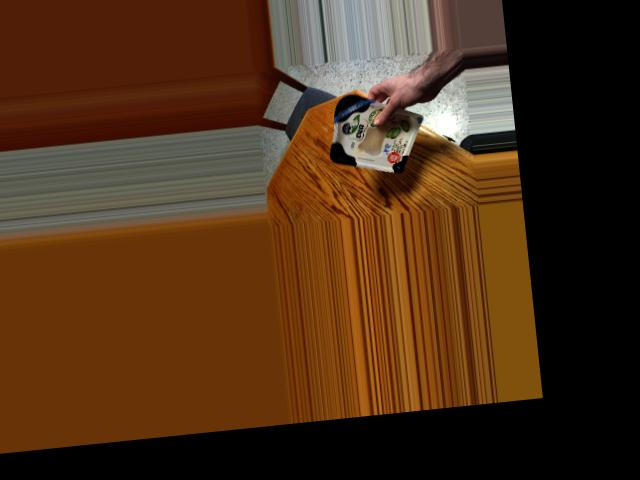cheese: (321, 86, 413, 178)
